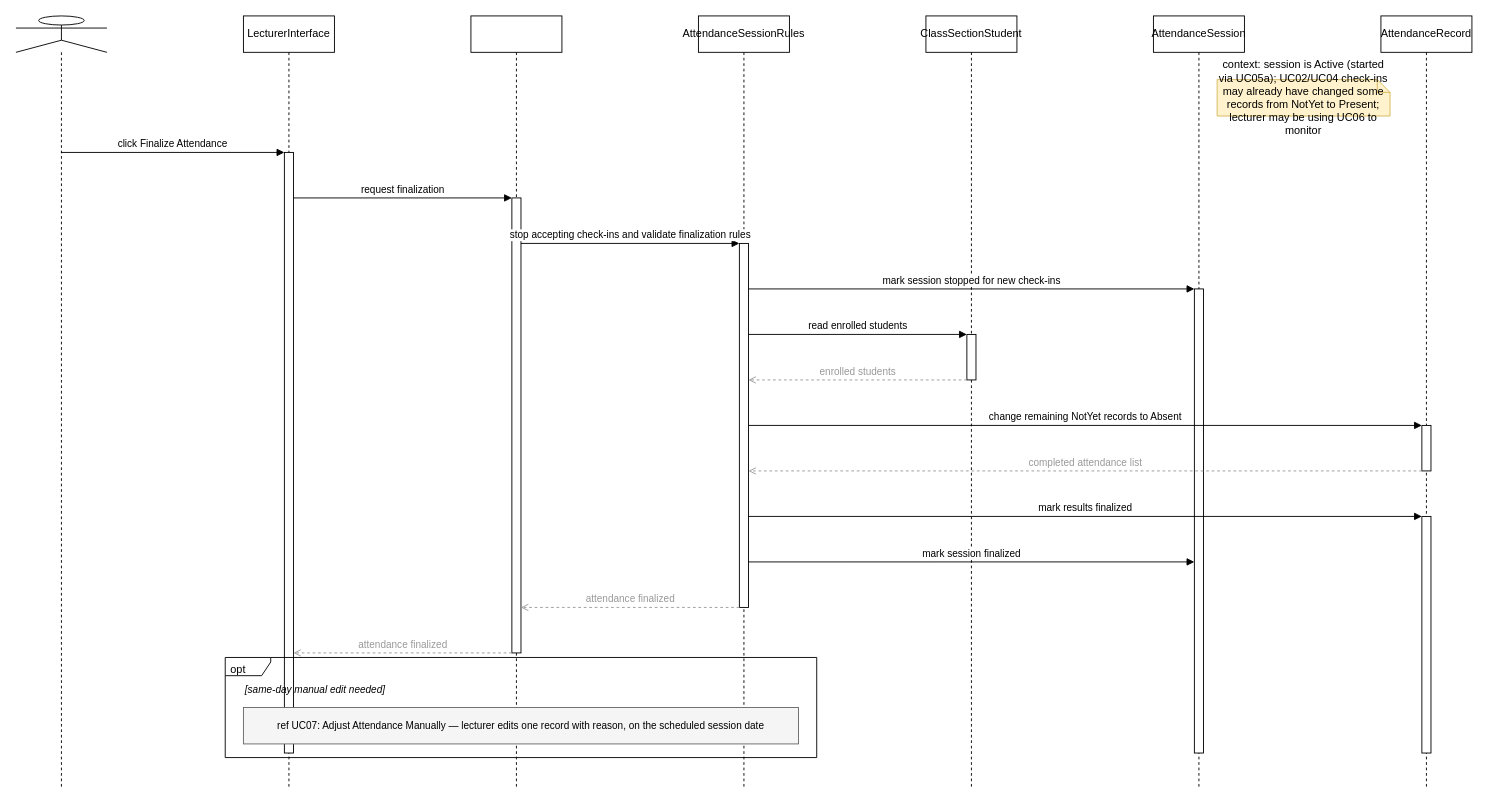
The diagram is 1488 pixels wide and 805 high, and some of its shapes have lost their labels. The shapes that lost their labels are listed below. From the top down, each one's box as (x1, y1, x2, y2) in pixels, then its label:
(15, 15, 107, 789): Lecturer
(470, 15, 562, 789): AttendanceSessionControl
